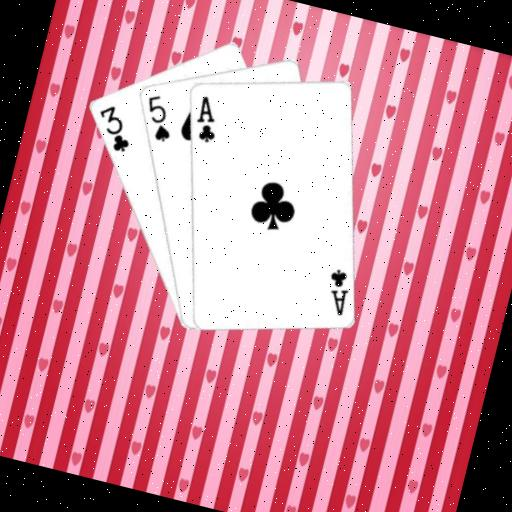3C: (87, 99, 139, 156)
5S: (135, 89, 181, 145)
AC: (188, 91, 226, 146), (318, 263, 356, 318)
